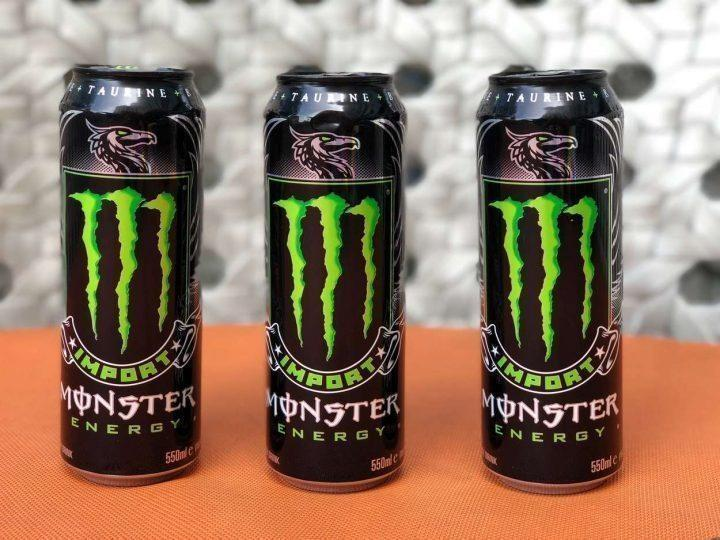tin can: (473, 64, 626, 495), (56, 60, 207, 487), (259, 66, 409, 494)
